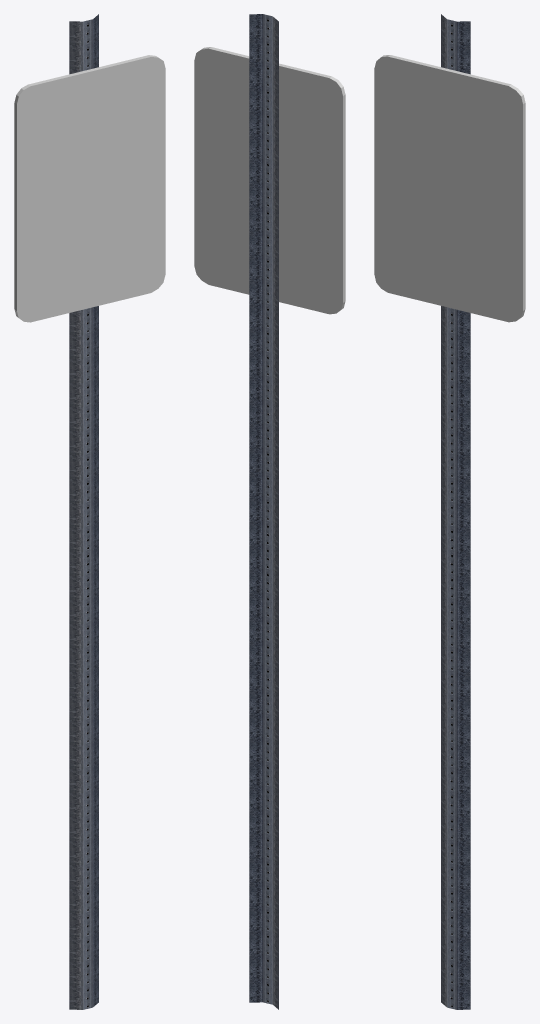
The model's file is sign_reserved_parking.glb.
3 views of the same model, side by side, from view 1: azimuth 30°, elevation 25°; view 2: azimuth 150°, elevation 25°; view 3: azimuth 330°, elevation 25° (orthographic).
Visible parts, largest first — view 1: sign_reserved_parking, signpost_silver; view 2: signpost_silver, sign_reserved_parking; view 3: sign_reserved_parking, signpost_silver.
Part boxes in pixels (x1,y1,x2,y2): sign_reserved_parking: [14, 55, 165, 322]; signpost_silver: [69, 14, 98, 1009]; signpost_silver: [249, 14, 278, 1009]; sign_reserved_parking: [194, 47, 345, 314]; sign_reserved_parking: [374, 55, 525, 322]; signpost_silver: [441, 14, 470, 1009].
Bounding box in the file's own units: 0.2877 × 1.83 × 0.0236.
2 materials, 1 textured.
